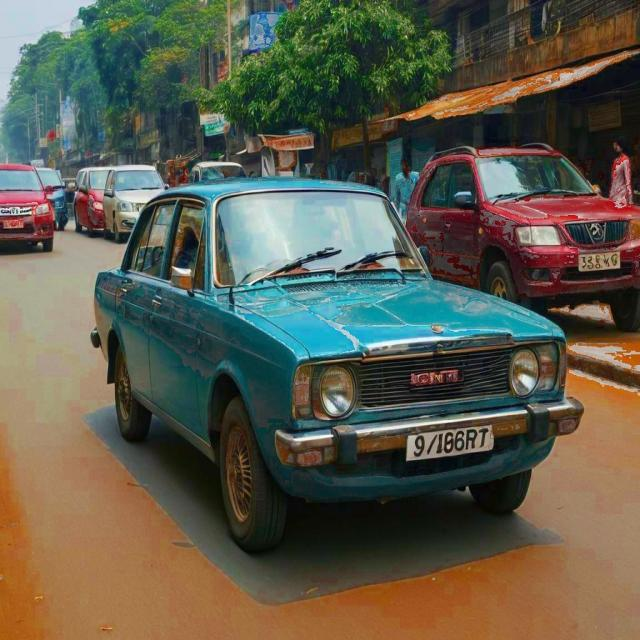blue: (86, 170, 573, 530)
maroon: (396, 141, 640, 331), (0, 162, 57, 262)
silver: (95, 157, 168, 235)
